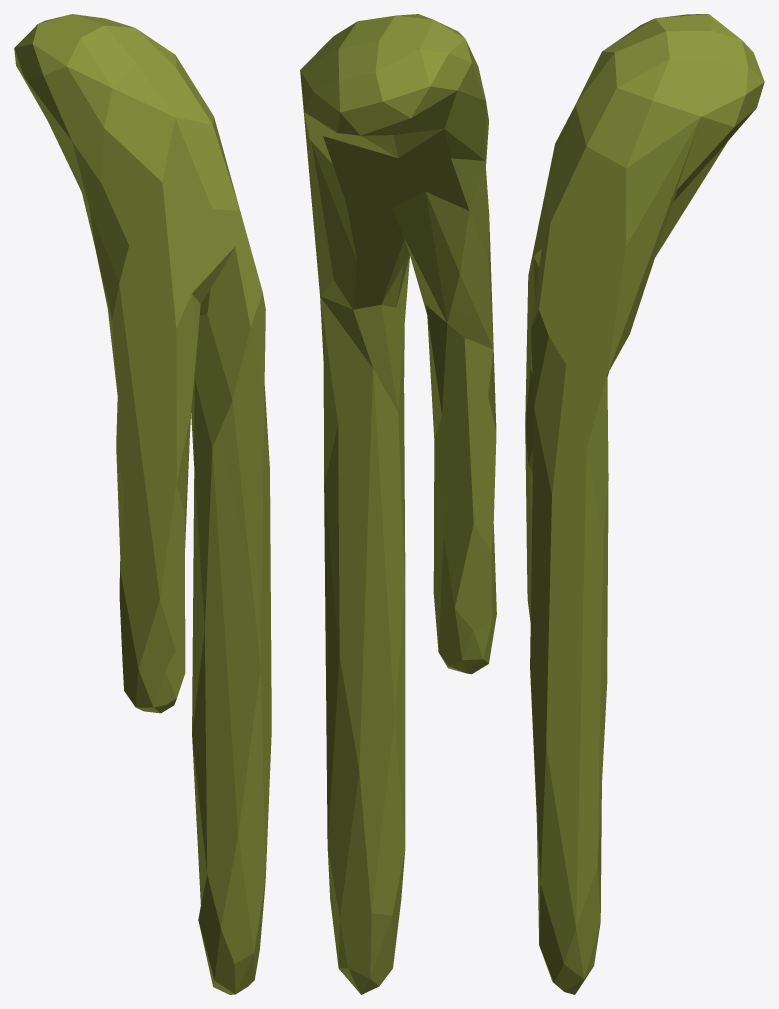
Rendered from ea_nature_tree_crow_01d_pre_1_lev1.glb.
3 renders of one model, left to right at view 1: azimuth 30°, elevation 25°; view 2: azimuth 150°, elevation 25°; view 3: azimuth 270°, elevation 25°, orthographic. The views are drawn at different scales.
Parts seen in each view (by area): view 1: ea_nature_tree_crow_01d_pre_1_lev1; view 2: ea_nature_tree_crow_01d_pre_1_lev1; view 3: ea_nature_tree_crow_01d_pre_1_lev1.
Part boxes in pixels (x1,y1,x2,y2): ea_nature_tree_crow_01d_pre_1_lev1: (14,14,271,994); ea_nature_tree_crow_01d_pre_1_lev1: (300,14,496,994); ea_nature_tree_crow_01d_pre_1_lev1: (525,14,764,994).
Bounding box in the file's own units: 0.5047 × 2.62 × 0.6141.
Materials: 1 (1 with a texture image).
